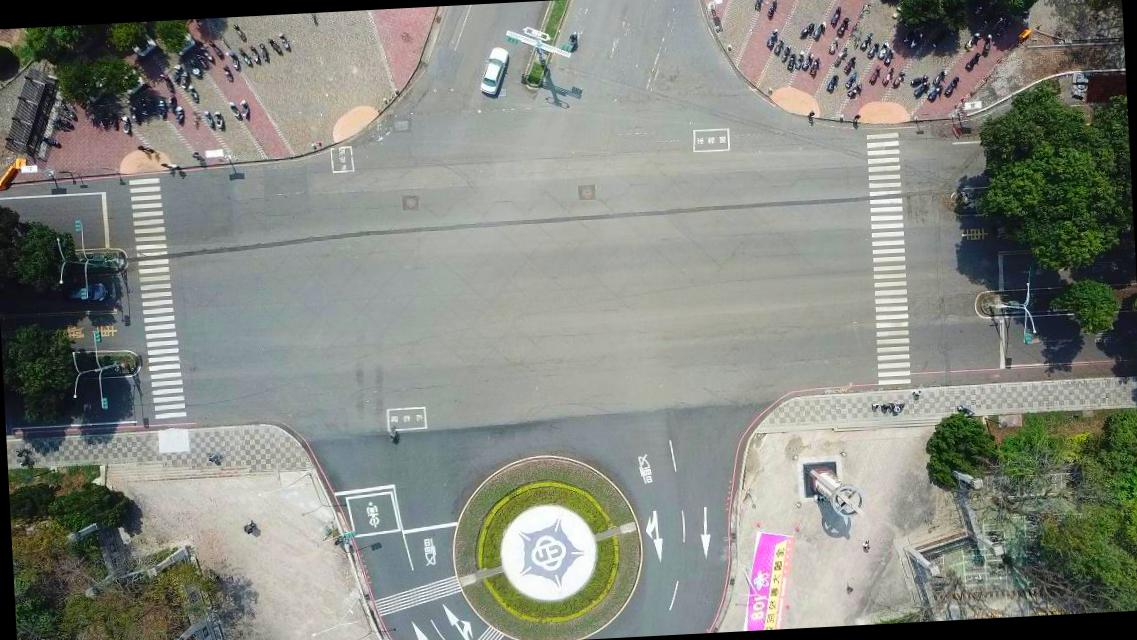vehicle: (476, 46, 510, 98), (56, 277, 108, 304)
